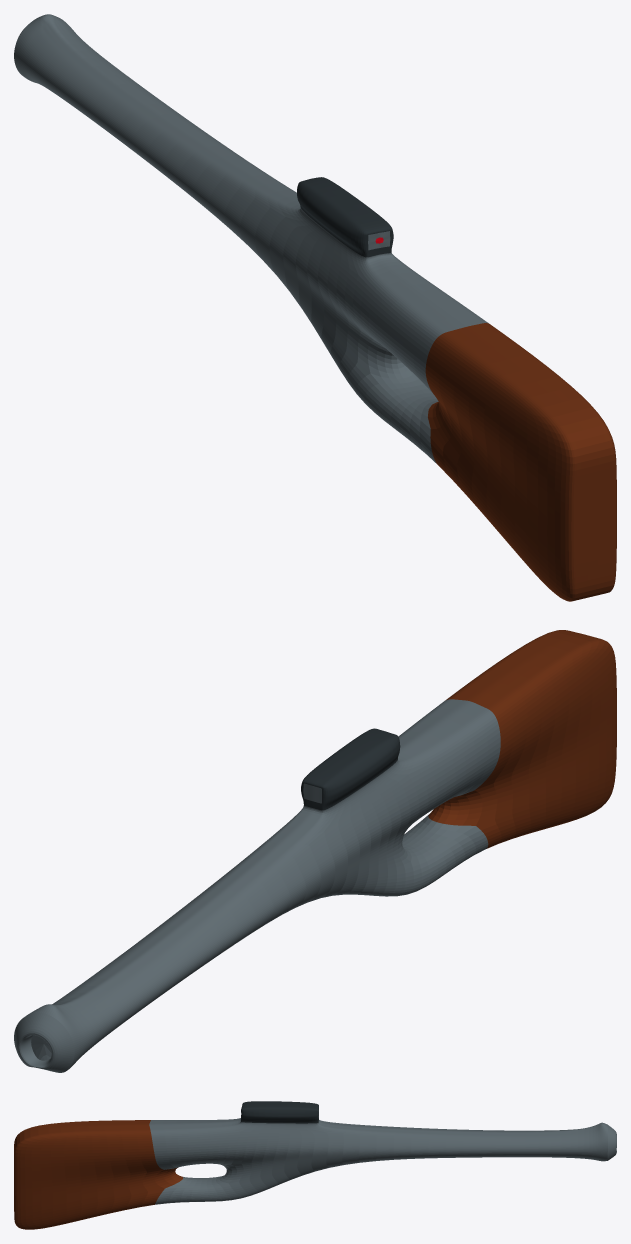
The model's file is haulikko.fbx.
3 renders of one model, top to bottom at view 1: azimuth 30°, elevation 25°; view 2: azimuth 150°, elevation 25°; view 3: azimuth 270°, elevation 25°, orthographic. The views are drawn at different scales.
Parts seen in each view (by area): view 1: Cube; view 2: Cube; view 3: Cube.
Part boxes in pixels (left/top/right/bottom): Cube: left=14, top=14, right=616, bottom=601; Cube: left=14, top=630, right=616, bottom=1072; Cube: left=14, top=1101, right=616, bottom=1229.
Size of the model in its own units: 10.39 by 30.58 by 139.
